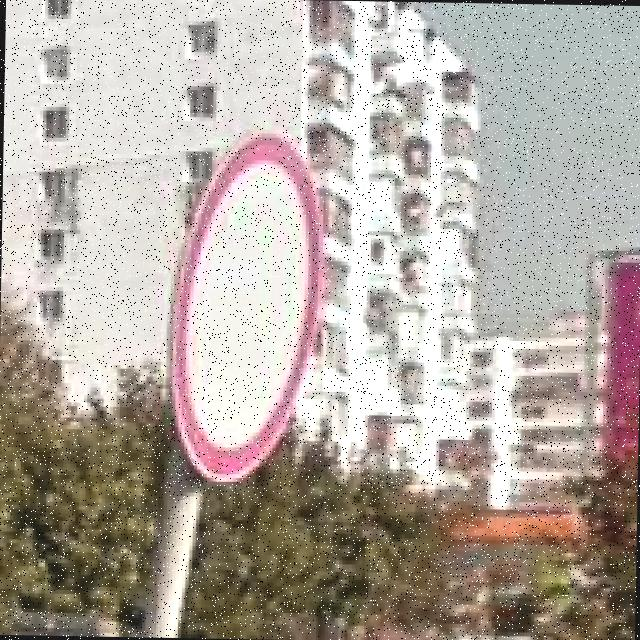Zakaz ruchu w obu kierunkach: (167, 128, 323, 486)
